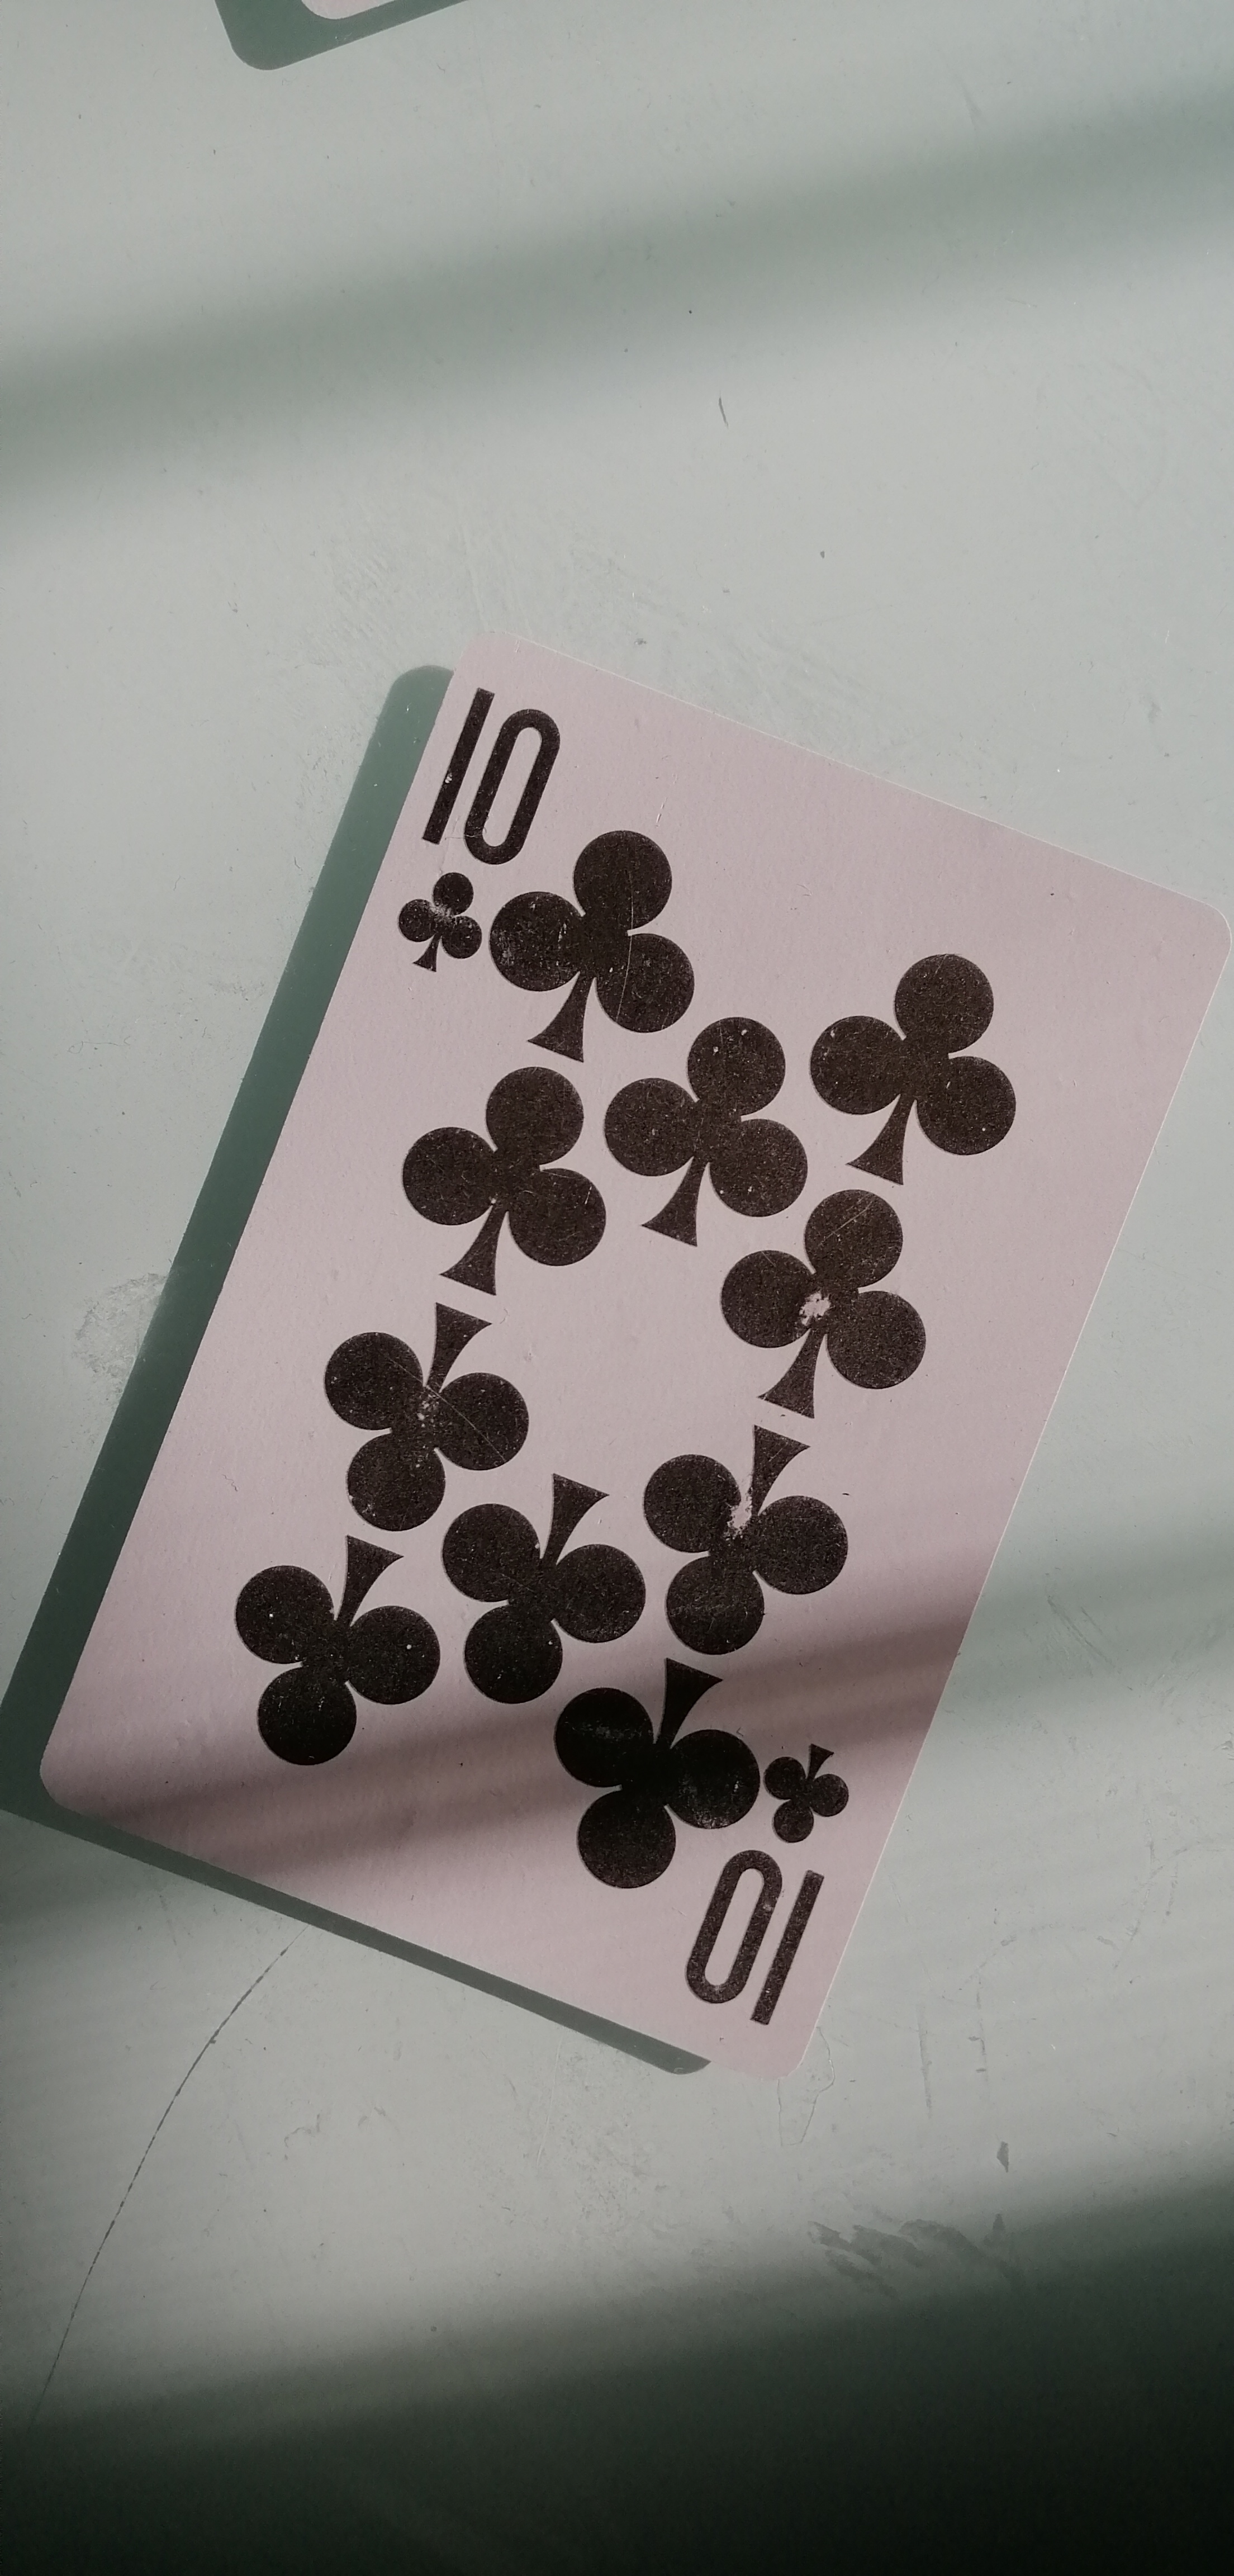ten: (21, 555, 1221, 2141)
